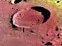crater: (3, 4, 60, 36)
